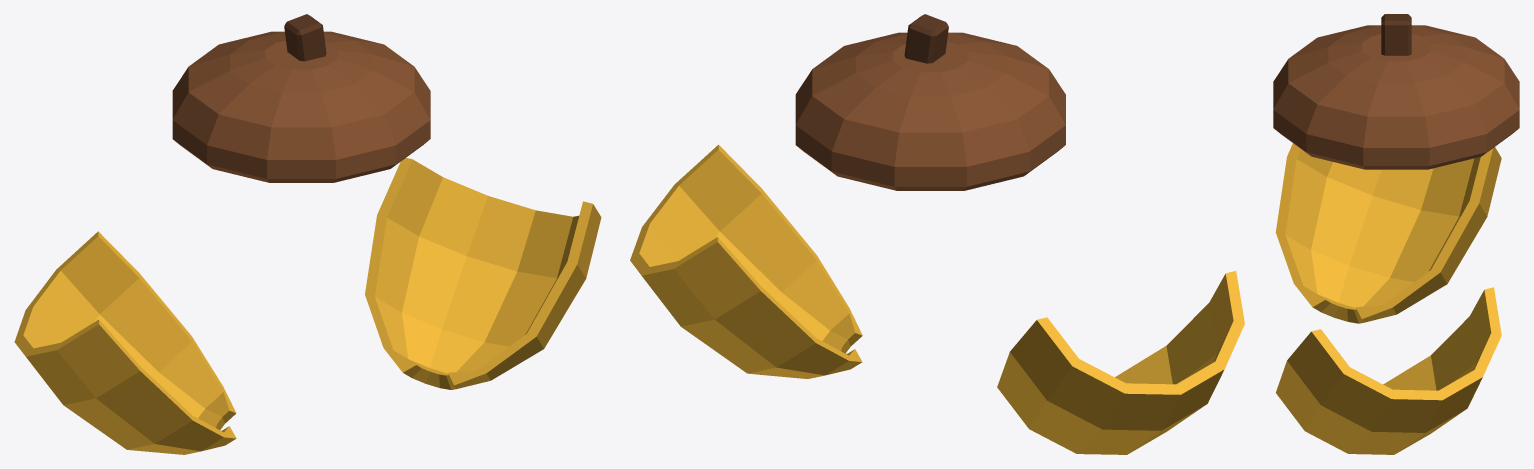
The model's file is golden-acorn-open.fbx.
3 views of the same model, side by side, from view 1: azimuth 30°, elevation 25°; view 2: azimuth 150°, elevation 25°; view 3: azimuth 270°, elevation 25° (orthographic). The views are drawn at different scales.
Parts seen in each view (by area): view 1: Right shell half • hollow, Cap • popped lid, Left shell half • hollow, Stem • short angled brick; view 2: Cap • popped lid, Right shell half • hollow, Left shell half • hollow, Stem • short angled brick; view 3: Cap • popped lid, Left shell half • hollow, Right shell half • hollow, Stem • short angled brick.
Boxes of the visible parts, x1,y1,x2,y2 form: Right shell half • hollow: (365,158,601,389); Cap • popped lid: (172,31,430,182); Left shell half • hollow: (14,231,236,454); Stem • short angled brick: (284,14,326,61); Cap • popped lid: (795,32,1065,190); Right shell half • hollow: (630,144,862,378); Left shell half • hollow: (997,271,1244,454); Stem • short angled brick: (904,14,948,63); Cap • popped lid: (1273,25,1519,169); Left shell half • hollow: (1275,143,1501,323); Right shell half • hollow: (1276,287,1501,454); Stem • short angled brick: (1381,14,1411,55).
Size of the model in its own units: 580 by 378 by 233.
